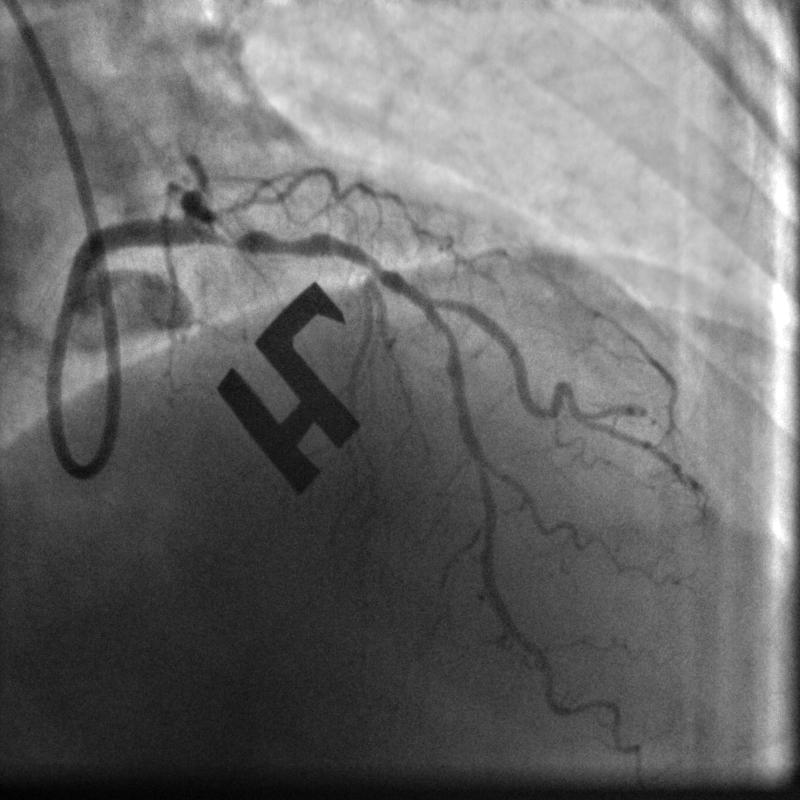Stenosis: (208, 222, 327, 255)
